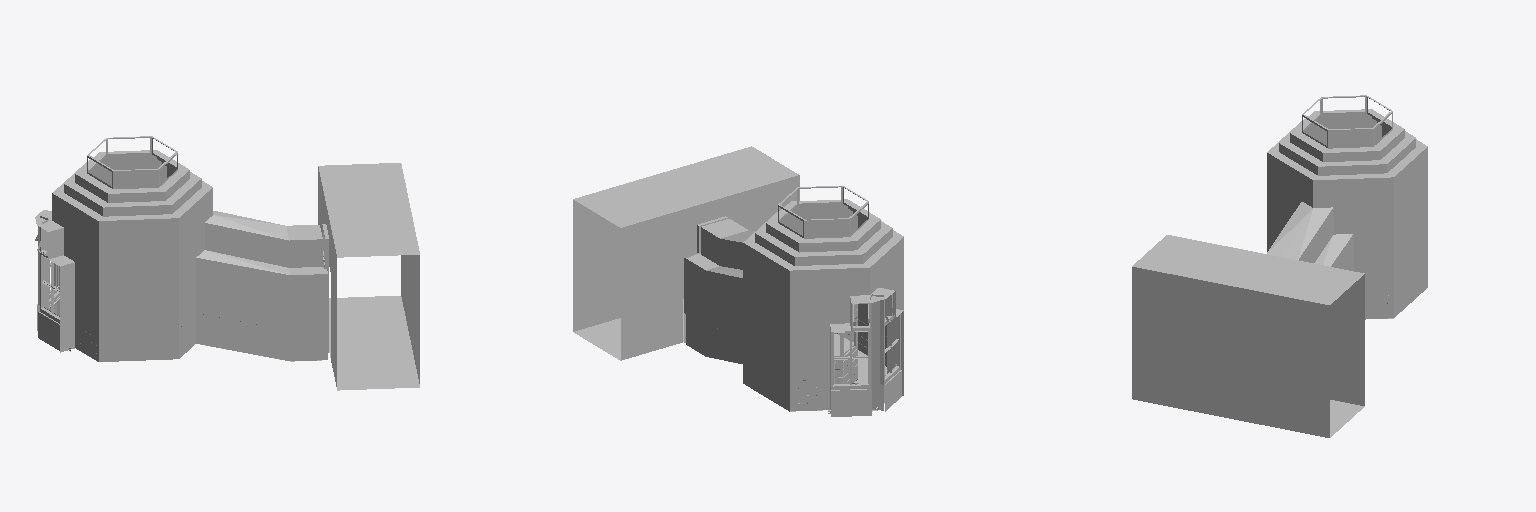
The model's file is museum2.obj.
3 renders of one model, left to right at view 1: azimuth 30°, elevation 25°; view 2: azimuth 150°, elevation 25°; view 3: azimuth 270°, elevation 25°, orthographic.
Parts seen in each view (by area): view 1: panorama; view 2: panorama; view 3: panorama.
Part boxes in pixels (bbox=[...]): panorama: bbox=[35, 136, 419, 390]; panorama: bbox=[573, 146, 903, 416]; panorama: bbox=[1132, 95, 1427, 437].
Bounding box in the file's own units: 9.52 × 5.32 × 7.17.